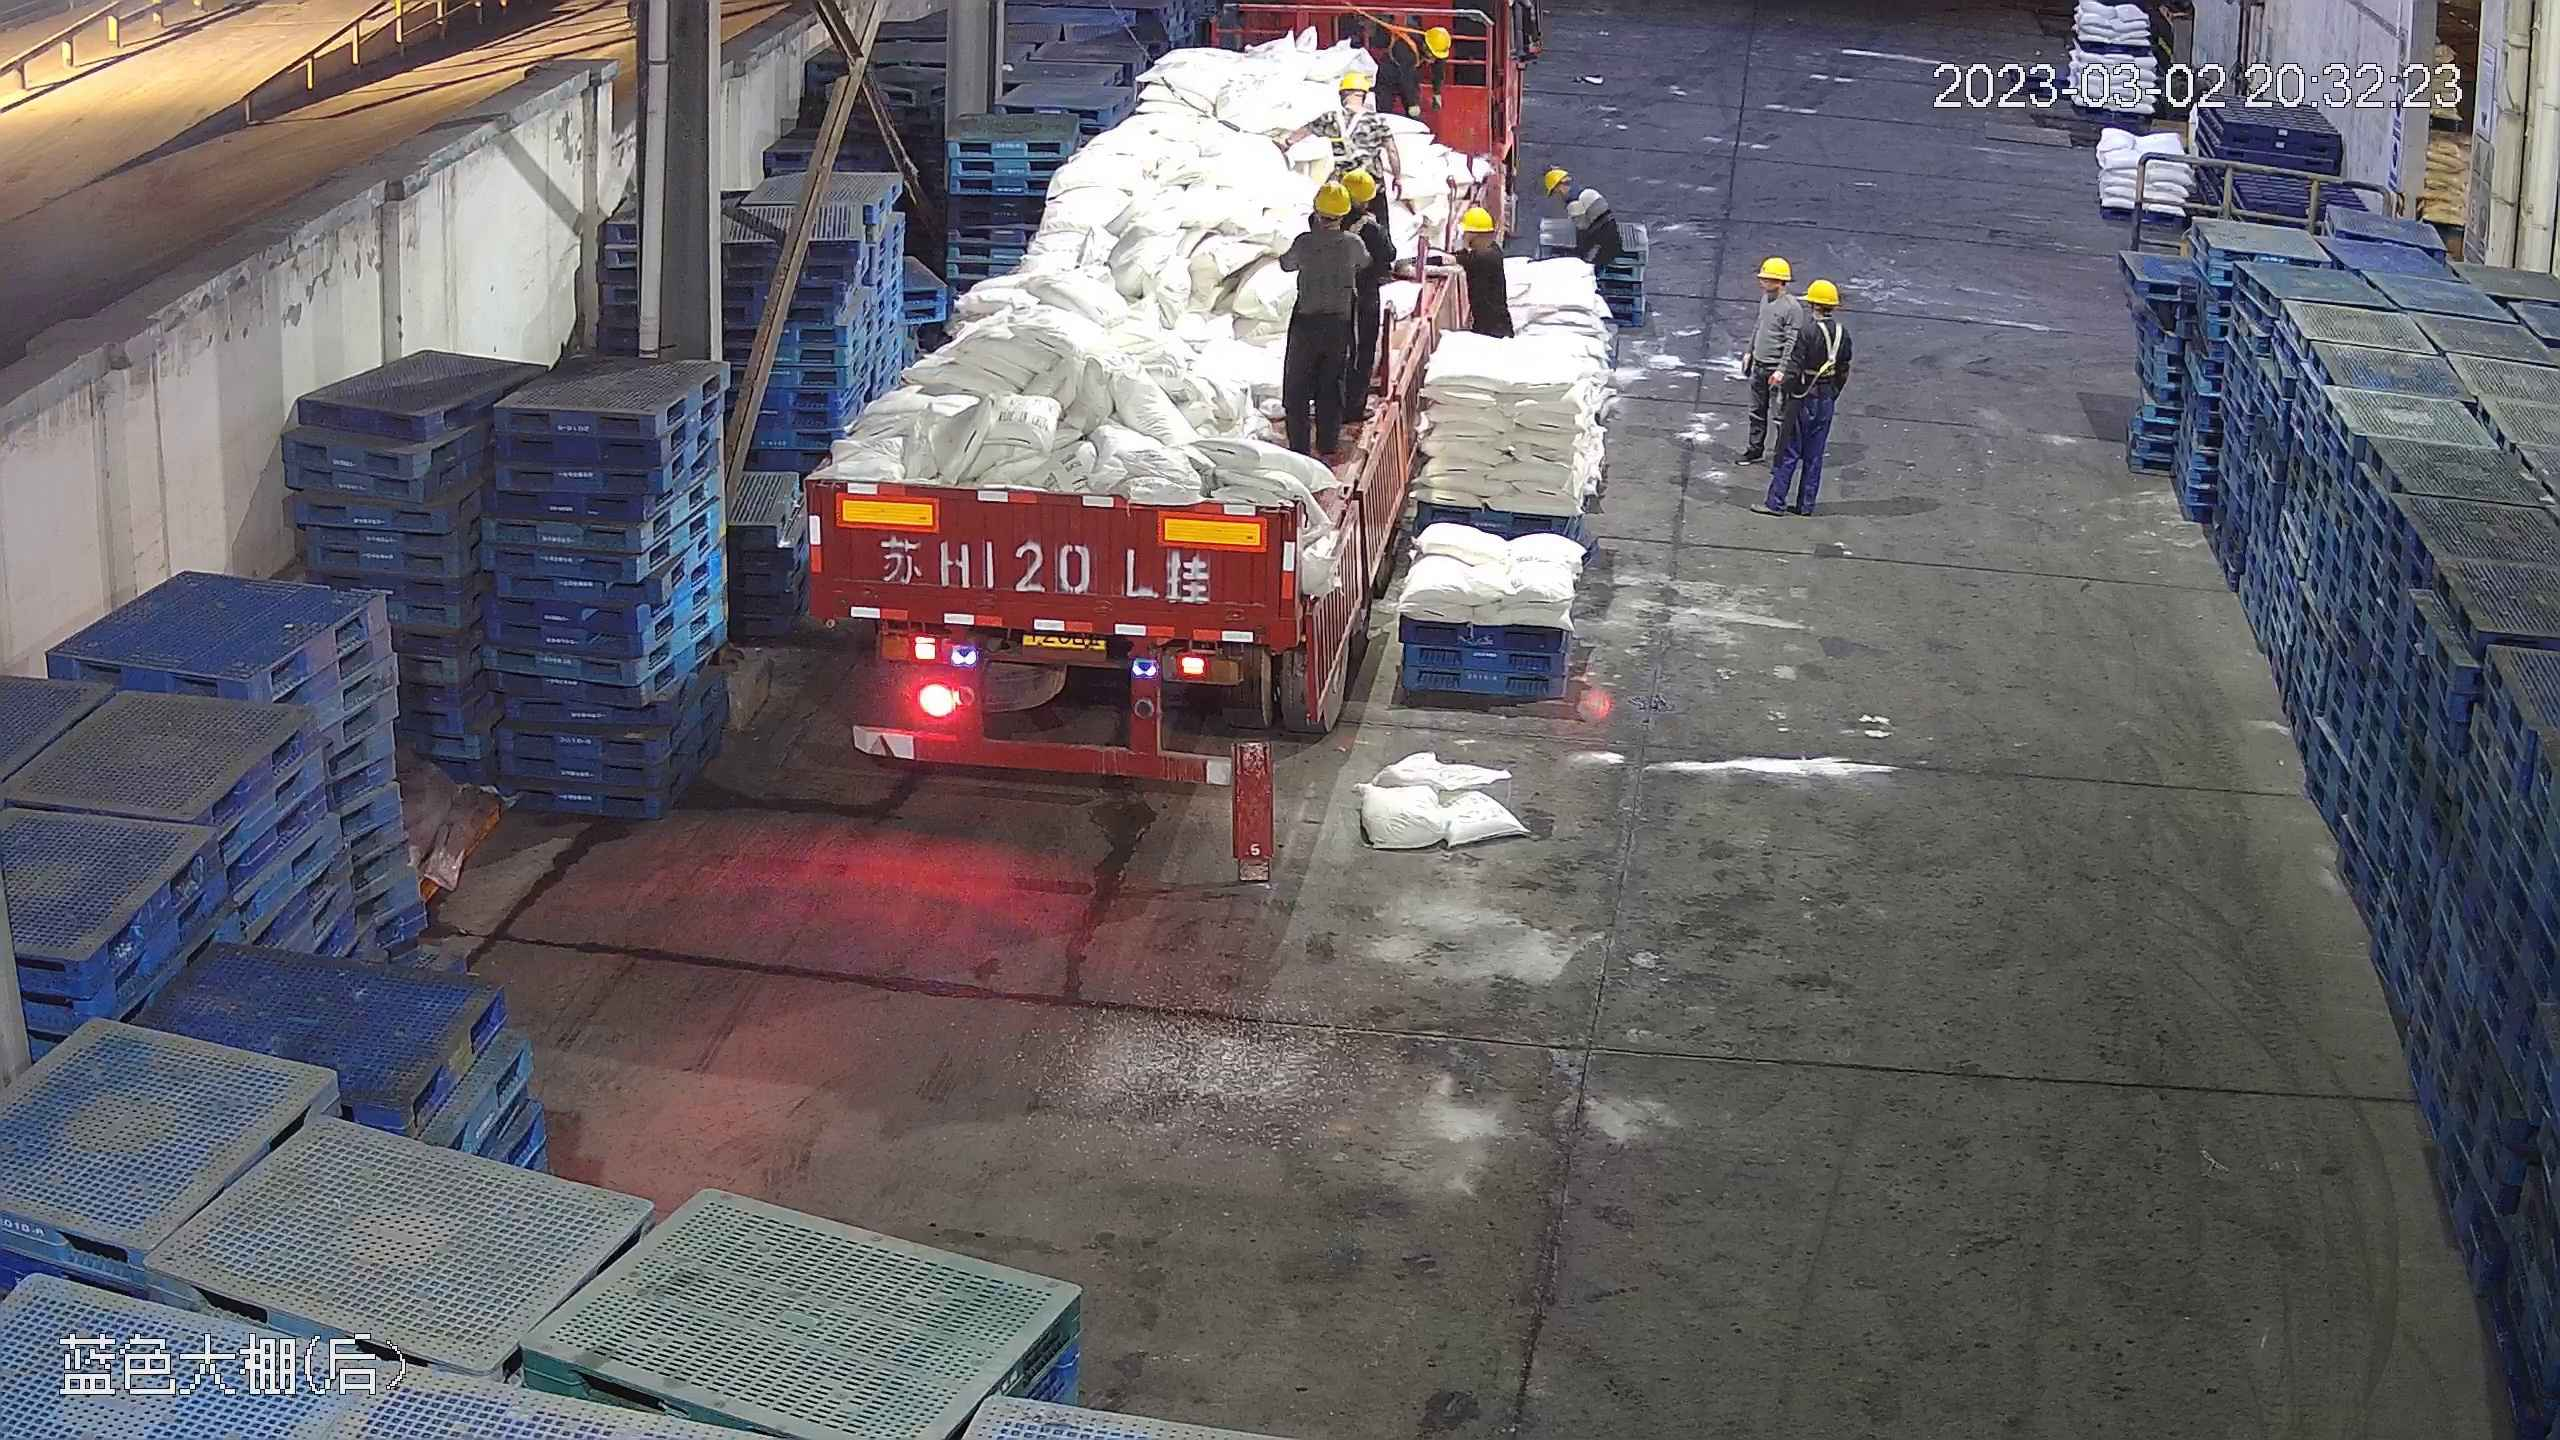belt: (1794, 321, 1846, 373), (1333, 140, 1382, 192), (1383, 17, 1428, 67), (1336, 107, 1378, 152), (1350, 211, 1381, 239)
head: (1282, 178, 1375, 271), (1449, 205, 1513, 285), (1790, 278, 1851, 350), (1325, 68, 1385, 136), (1749, 255, 1795, 322), (1539, 168, 1593, 224), (1388, 25, 1447, 69)
helmet: (1314, 177, 1352, 215), (1342, 168, 1376, 201), (1803, 279, 1842, 304), (1461, 207, 1497, 233), (1422, 27, 1449, 55), (1336, 68, 1371, 90), (1758, 255, 1789, 278), (1543, 168, 1571, 191)
people: (1233, 167, 1388, 456), (1760, 269, 1847, 516), (1742, 257, 1802, 483), (1544, 165, 1632, 310), (1317, 75, 1401, 189), (1375, 26, 1449, 109)
truck: (800, 7, 1503, 780)
